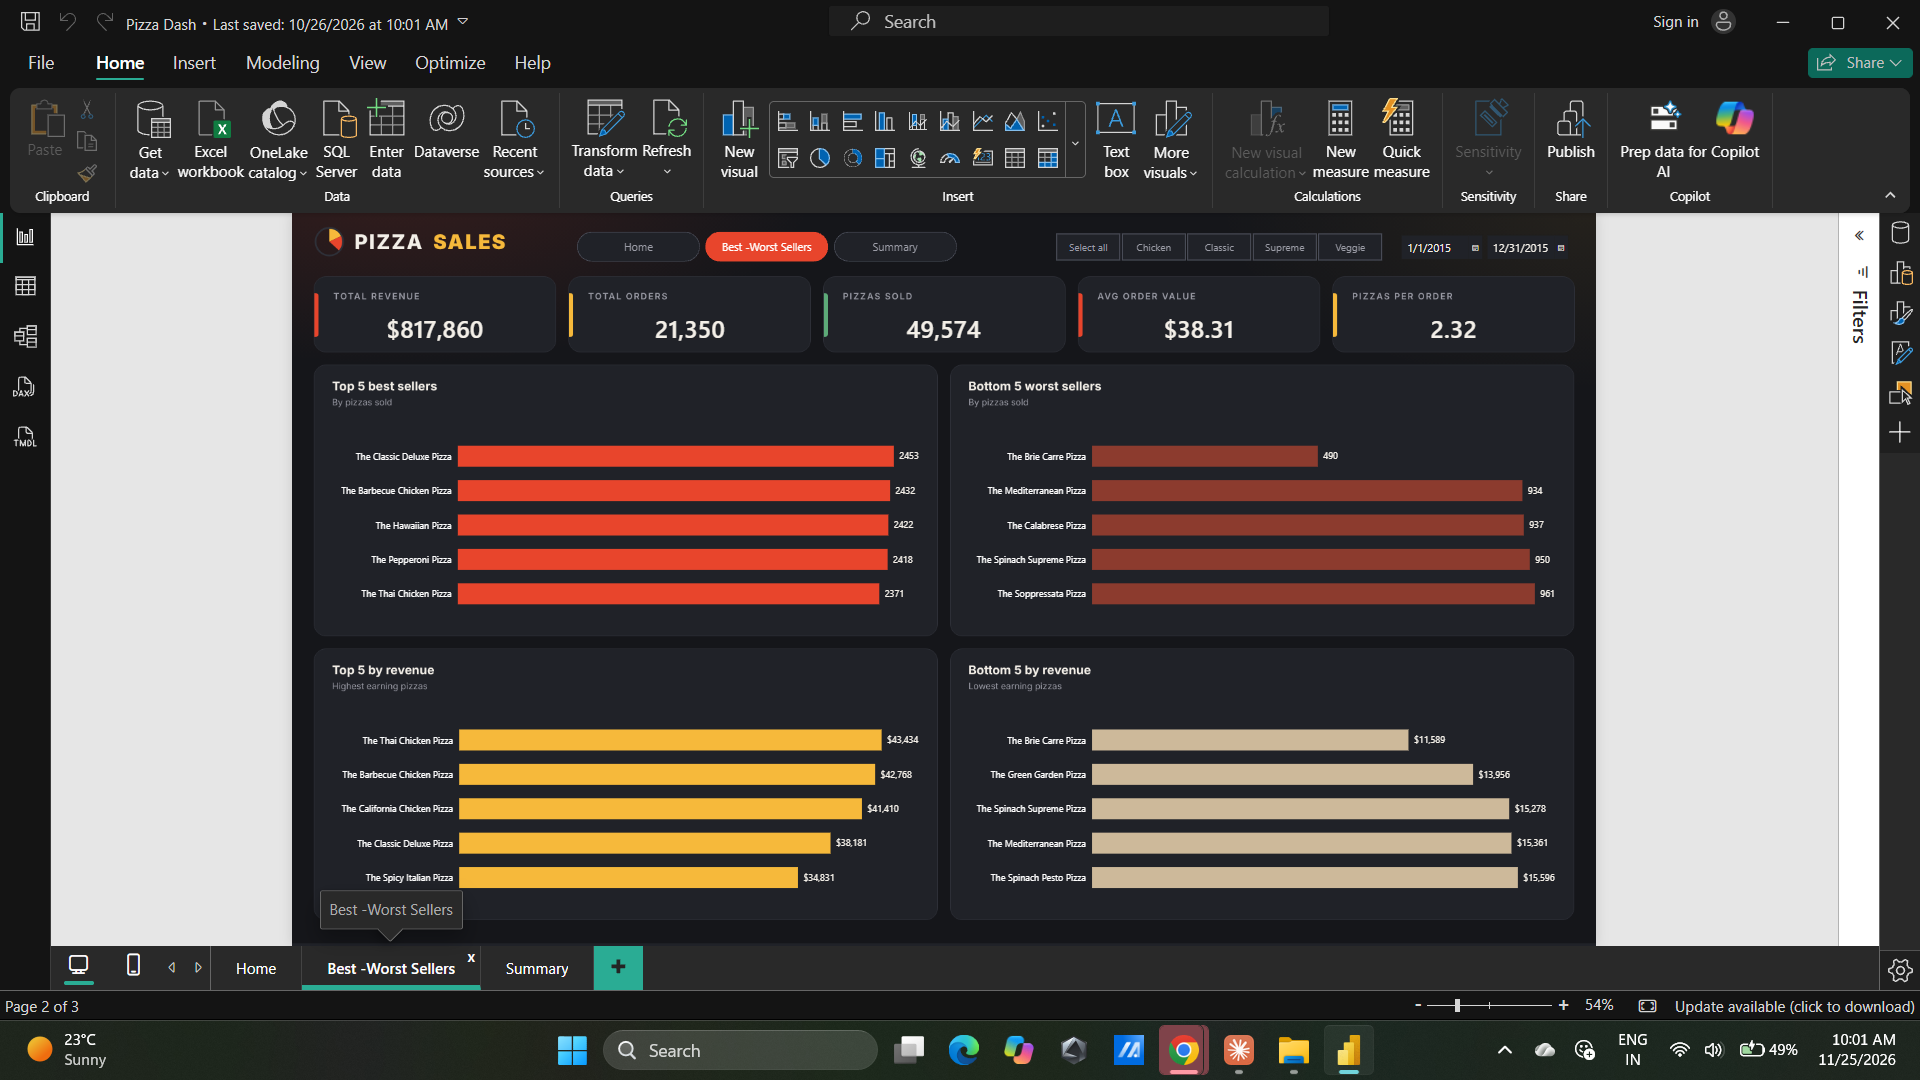

The dashboard page shown, as its layout file describes it:
{"tool":"powerbi","page":{"name":"Best -Worst Sellers","canvas":[1920,1080],"ordinal":1},"visuals":[{"type":"card","fields":{"Values":["Measure Table.Total Revenue"]},"box":[46,136,329,68],"z":1},{"type":"card","fields":{"Values":["Measure Table.Total Orders"]},"box":[421,136,329,68],"z":2},{"type":"card","fields":{"Values":["Measure Table.Total Pizzas Sold"]},"box":[796,136,329,68],"z":3},{"type":"card","fields":{"Values":["Measure Table.Avg Order Value"]},"box":[1171,136,329,68],"z":4},{"type":"card","fields":{"Values":["Measure Table.Avg Pizzas per Order"]},"box":[1546,136,329,68],"z":5},{"type":"clusteredBarChart","title":"Top 5 best sellers","fields":{"Category":["Dim_Pizza.pizza_name"],"Y":["Measure Table.Total Pizzas Sold"]},"box":[44,300,895,314],"z":6},{"type":"clusteredBarChart","title":"Top 5 best sellers","fields":{"Category":["Dim_Pizza.pizza_name"],"Y":["Measure Table.Total Pizzas Sold"]},"box":[981,300,895,314],"z":7},{"type":"clusteredBarChart","title":"Top 5 best sellers","fields":{"Category":["Dim_Pizza.pizza_name"],"Y":["Measure Table.Total Revenue"]},"box":[44,718,895,314],"z":8},{"type":"clusteredBarChart","title":"Top 5 best sellers","fields":{"Category":["Dim_Pizza.pizza_name"],"Y":["Measure Table.Total Revenue"]},"box":[981,718,895,314],"z":9},{"type":"slicer","fields":{"Values":["Dim_Pizza.pizza_category"]},"box":[1104.3,27.6,520,44],"z":10},{"type":"slicer","fields":{"Values":["Dim_Date.order_date"]},"box":[1625.2,27.6,276.1,44.2],"z":11},{"type":"pageNavigator","box":[420,28,560,44.2],"z":12}]}

Visuals, with their boxes on the page's 1920x1080 design canvas (x1, y1, x2, y2). These are canvas units, not pixel positions in the 1920x1080 screenshot, which may show the page scaled, cropped or inside an application window:
card - Measure Table.Total Revenue: 46 136 375 204
card - Measure Table.Total Orders: 421 136 750 204
card - Measure Table.Total Pizzas Sold: 796 136 1125 204
card - Measure Table.Avg Order Value: 1171 136 1500 204
card - Measure Table.Avg Pizzas per Order: 1546 136 1875 204
"Top 5 best sellers" clusteredBarChart: 44 300 939 614
"Top 5 best sellers" clusteredBarChart: 981 300 1876 614
"Top 5 best sellers" clusteredBarChart: 44 718 939 1032
"Top 5 best sellers" clusteredBarChart: 981 718 1876 1032
slicer - Dim_Pizza.pizza_category: 1104 28 1624 72
slicer - Dim_Date.order_date: 1625 28 1901 72
pageNavigator: 420 28 980 72
